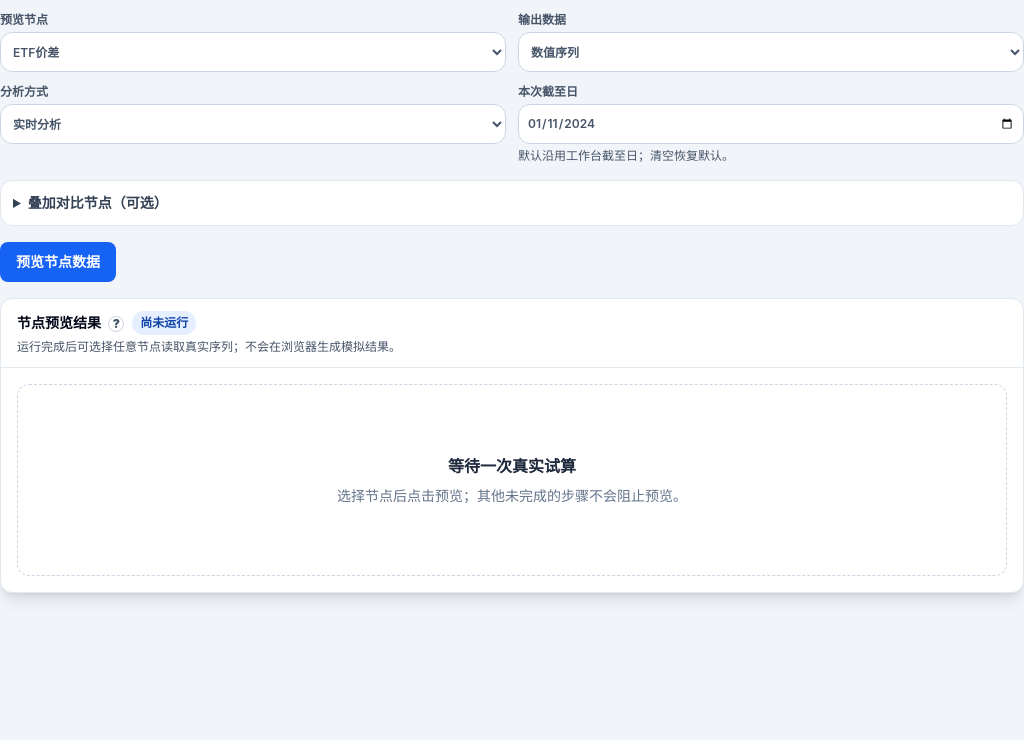
Test case: 显示具体日期问题，一次点击添加可保存的对齐节点后重新预览，保持左右次序和截止日
Click the button "预览节点数据": (58, 262) [0, 242, 116, 282]
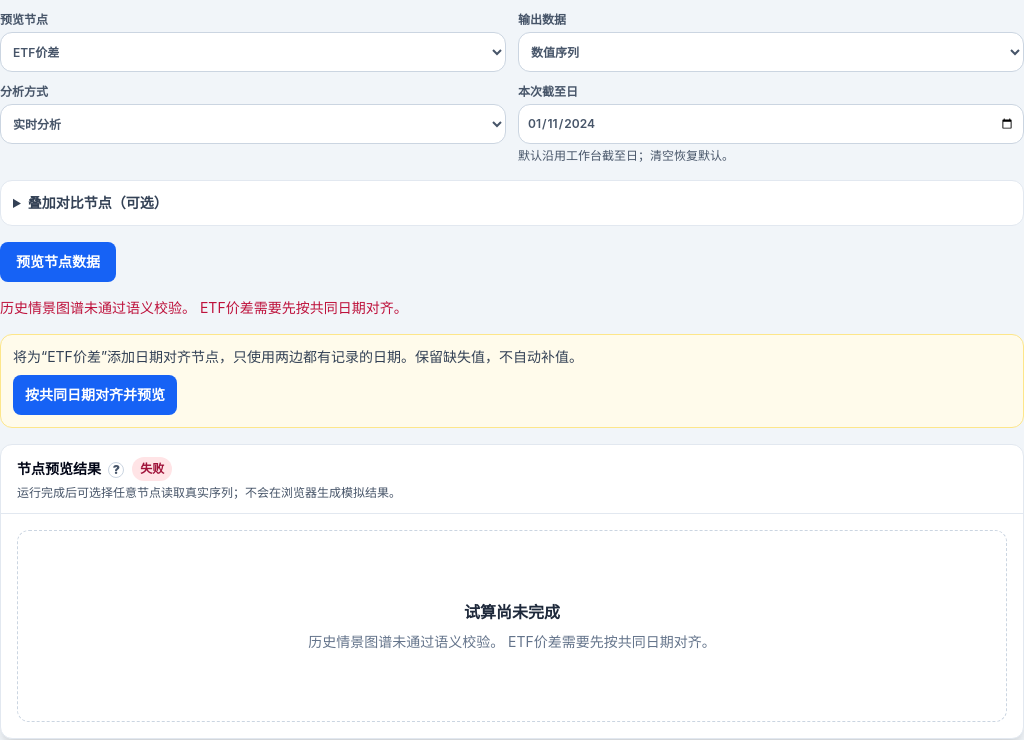
Expected: the message shows "ETF价差需要先按共同日期对齐", [0, 299, 408, 316]
Click the button "按共同日期对齐并预览": (95, 395) [13, 375, 177, 415]
(page scrolled)
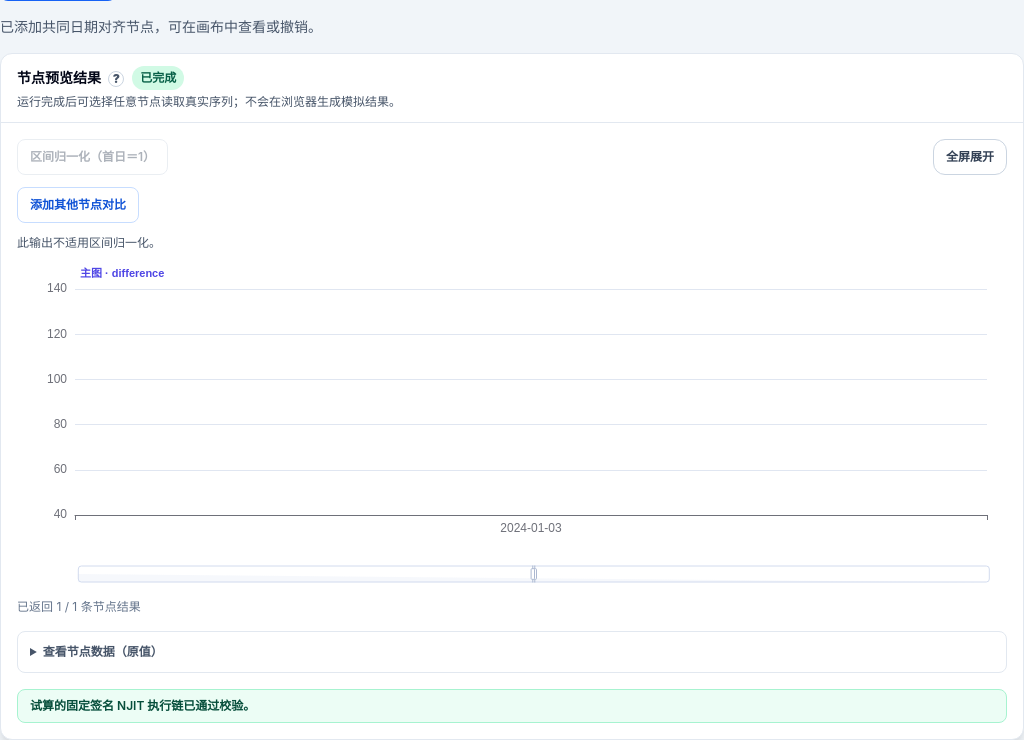
Expected: the text "已返回 1 / 1 条节点结果" is shown, [17, 599, 141, 614]
Expected: the button "按共同日期对齐并预览" is gone
